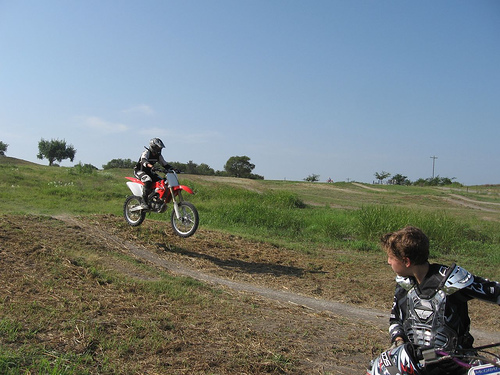without_mask: (382, 232, 434, 283)
